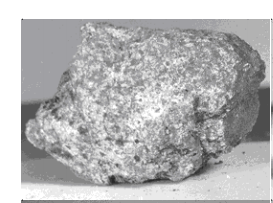Basalt: (24, 18, 264, 190)
